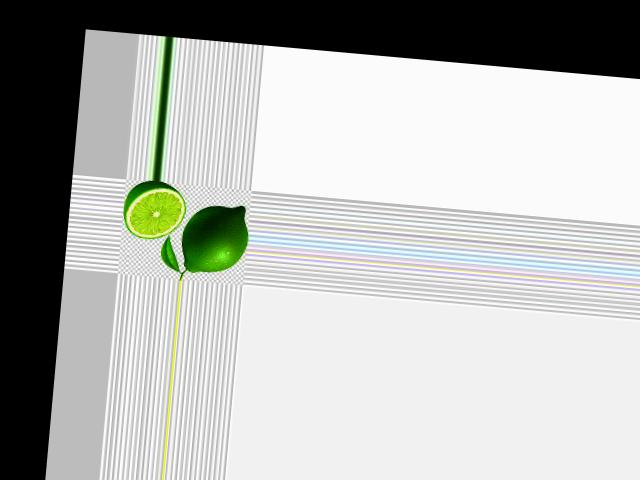lemon: (169, 197, 250, 277)
